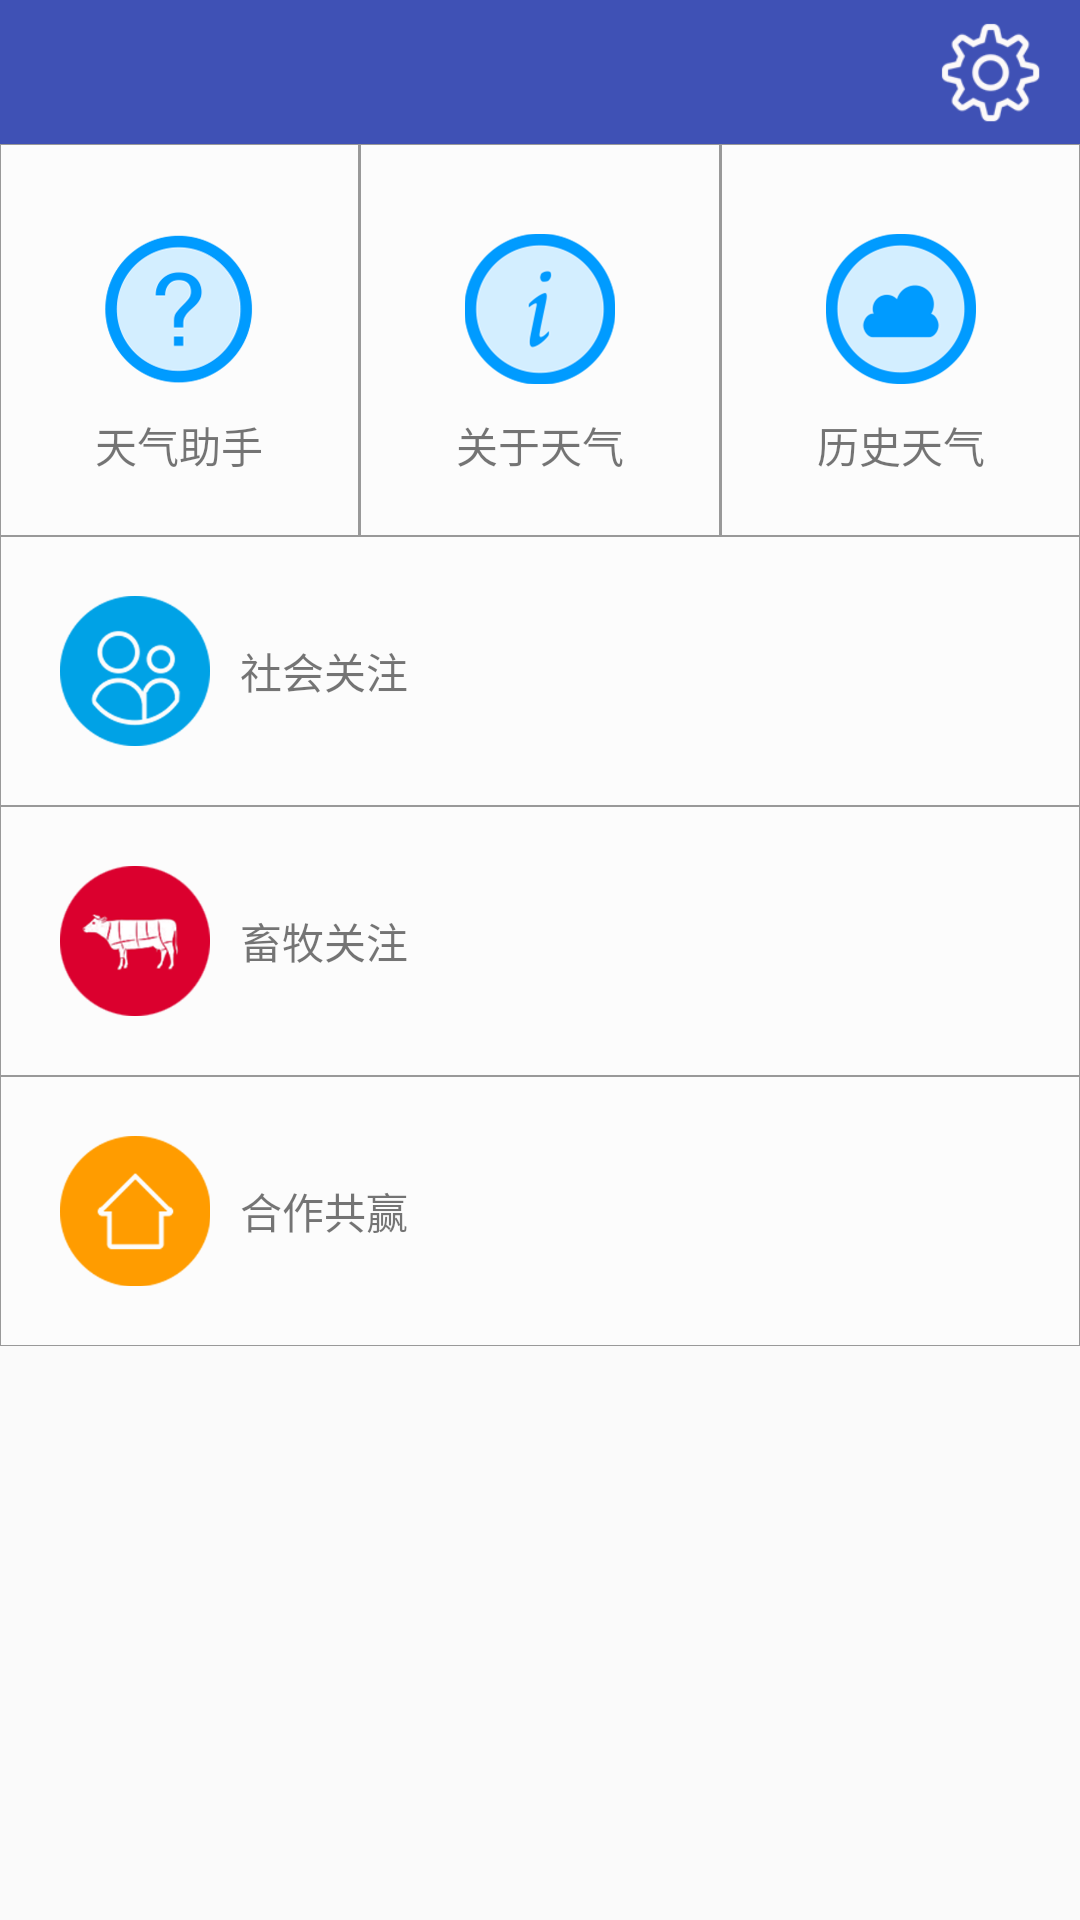

Point at icon controls on the screen. Image size 1080 × 1920, points as (x=x, y=y).
beef: (x=135, y=941)
cloud: (x=901, y=309)
house: (x=135, y=1211)
question: (x=178, y=309)
setting: (x=991, y=73)
